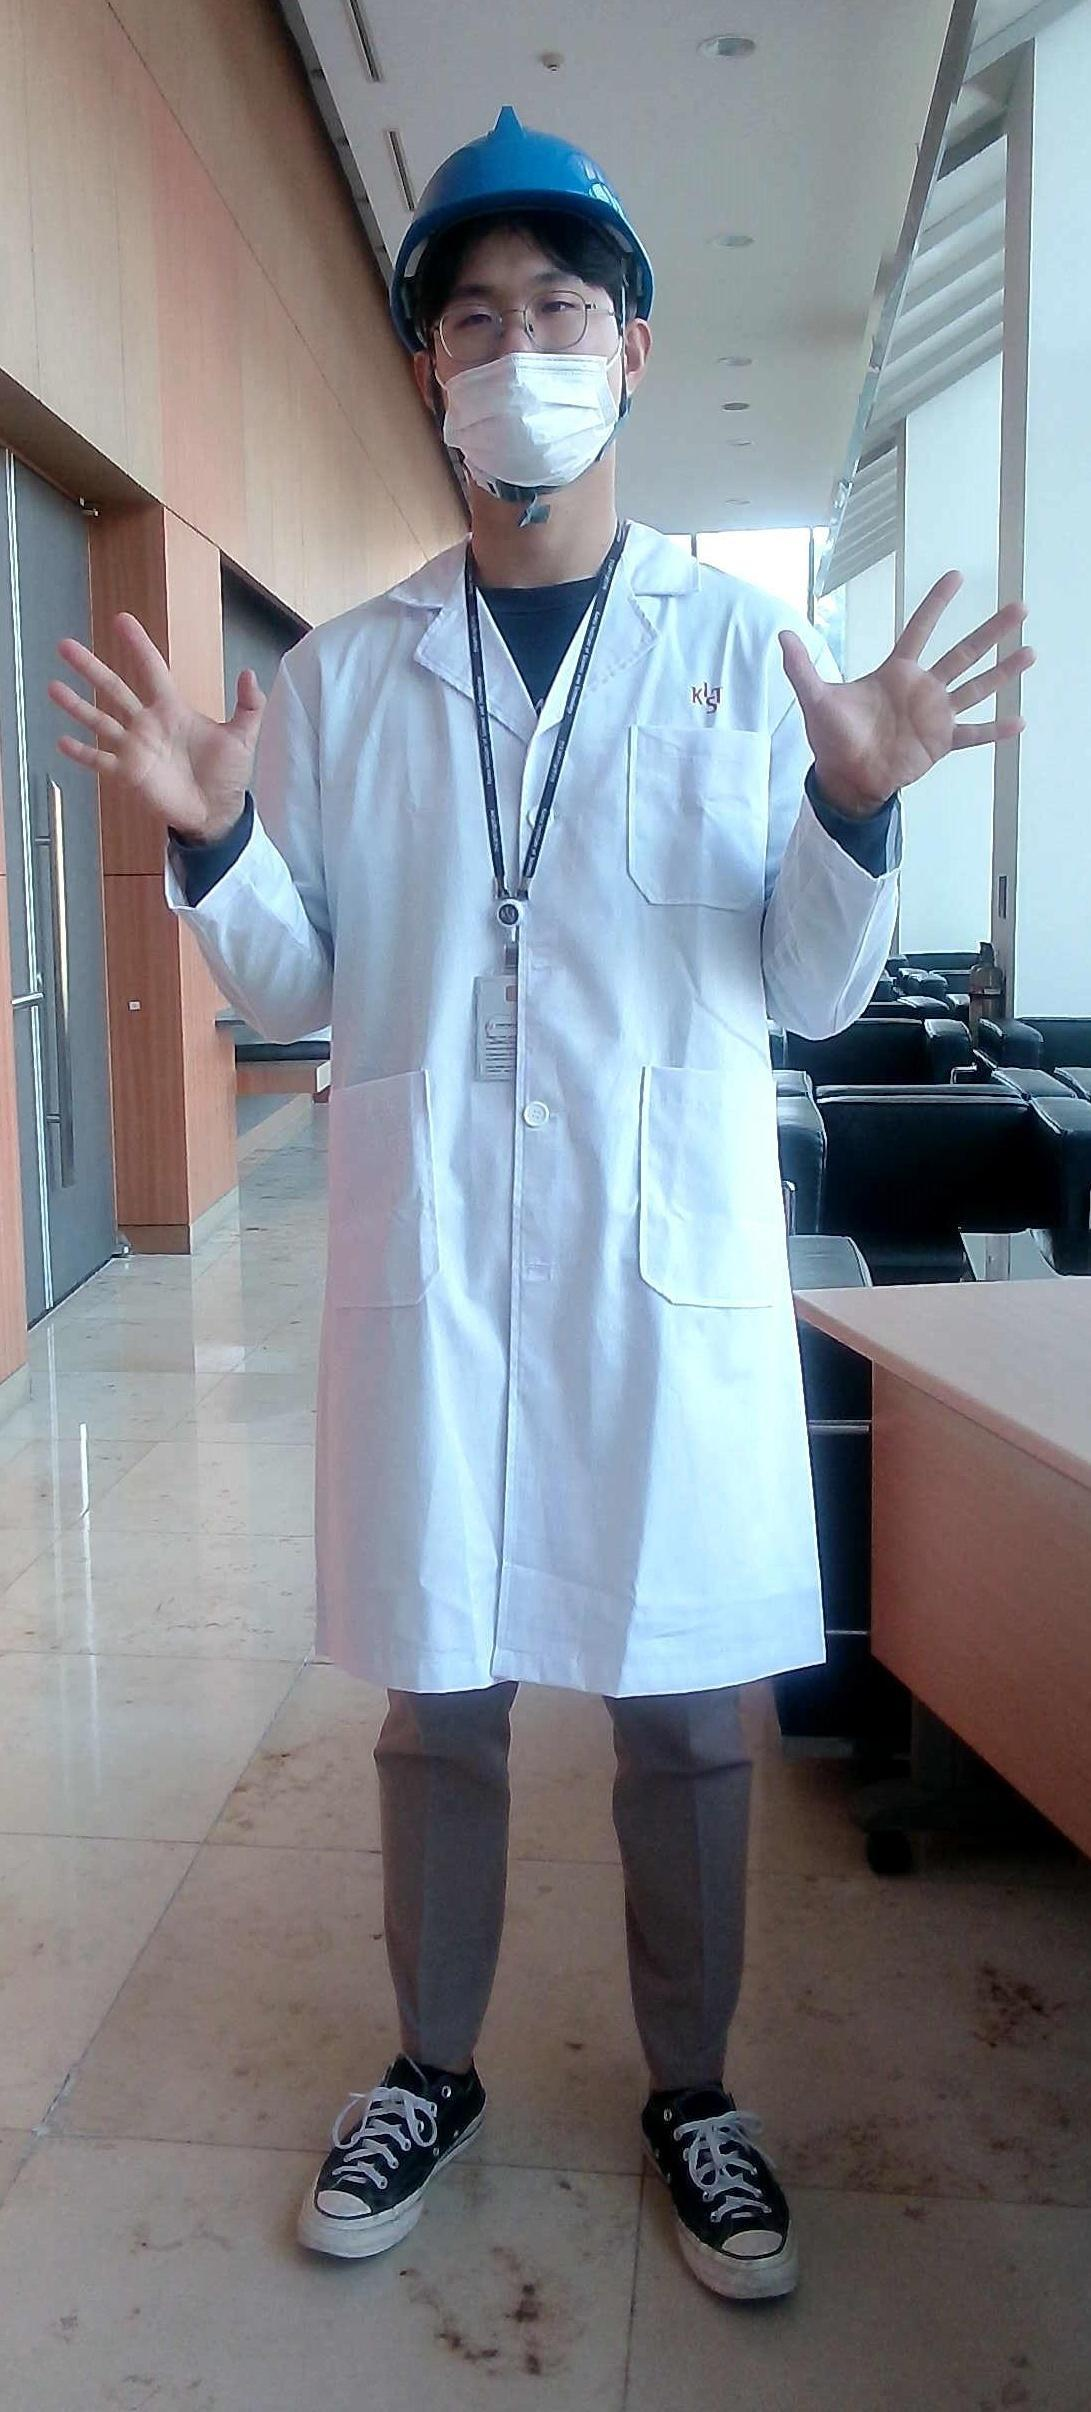lab_coat: (275, 606, 819, 1698)
